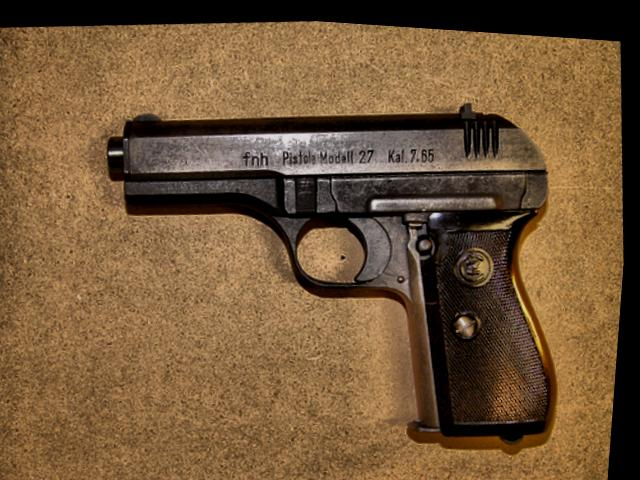pistol: (83, 71, 581, 470)
